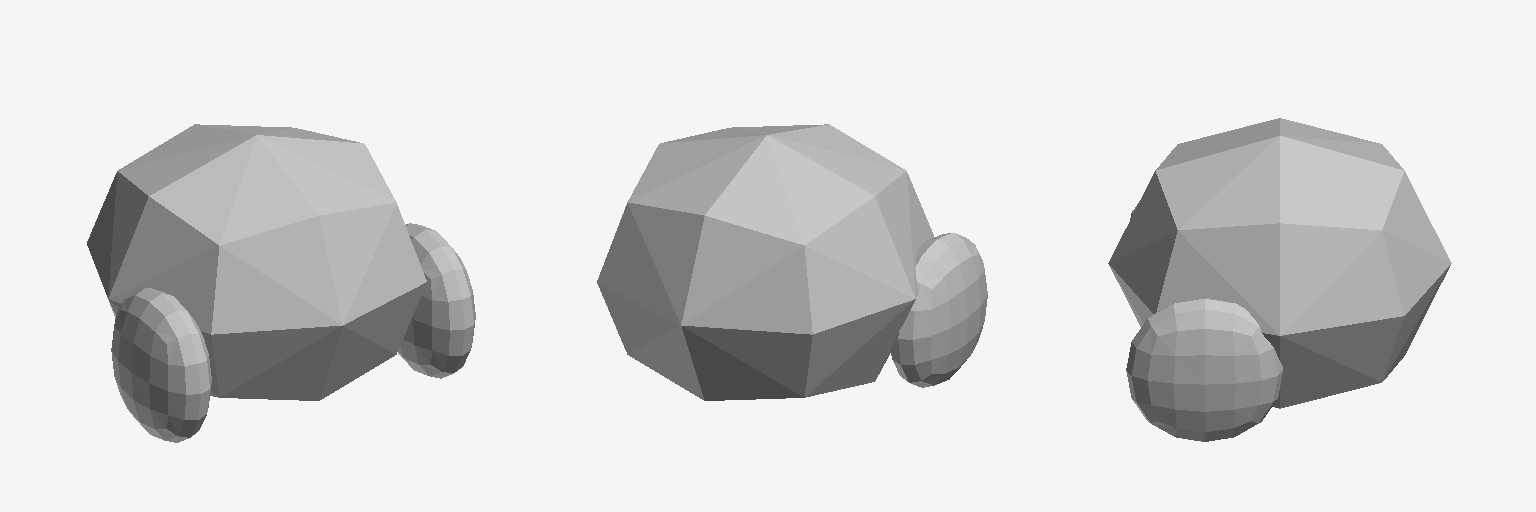
Rendered from bossMainBody.obj.
The picture shows the model from 3 angles: view 1: azimuth 30°, elevation 25°; view 2: azimuth 150°, elevation 25°; view 3: azimuth 270°, elevation 25°; orthographic projection.
Parts seen in each view (by area): view 1: Cube; view 2: Cube; view 3: Cube.
Part boxes in pixels (left/top/right/bottom): Cube: left=87, top=124, right=475, bottom=442; Cube: left=597, top=124, right=987, bottom=400; Cube: left=1108, top=118, right=1451, bottom=441.
Bounding box in the file's own units: 3.06 × 2.18 × 2.81.